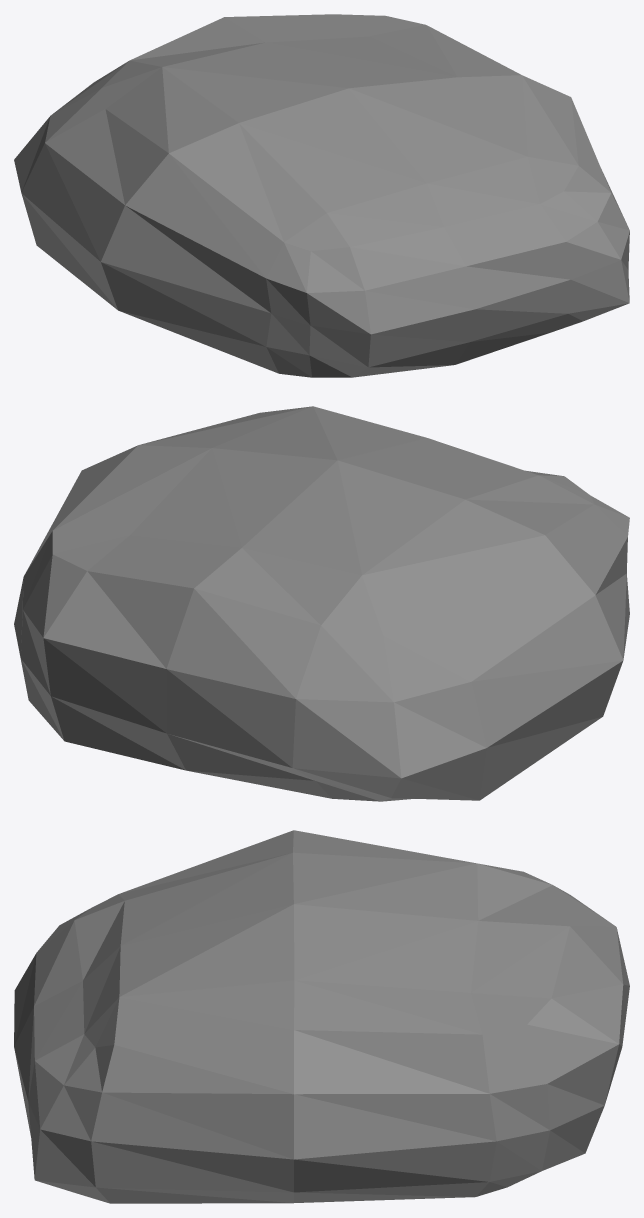
The model's file is rock_01_a.fbx.
3 renders of one model, top to bottom at view 1: azimuth 30°, elevation 25°; view 2: azimuth 150°, elevation 25°; view 3: azimuth 270°, elevation 25°, orthographic. The views are drawn at different scales.
Parts seen in each view (by area): view 1: Rock_01_a; view 2: Rock_01_a; view 3: Rock_01_a.
Part boxes in pixels (x1,y1,x2,y2): Rock_01_a: [14, 14, 629, 377]; Rock_01_a: [14, 406, 629, 801]; Rock_01_a: [14, 830, 629, 1203].
Size of the model in its own units: 24.3 by 23.95 by 9.6.
